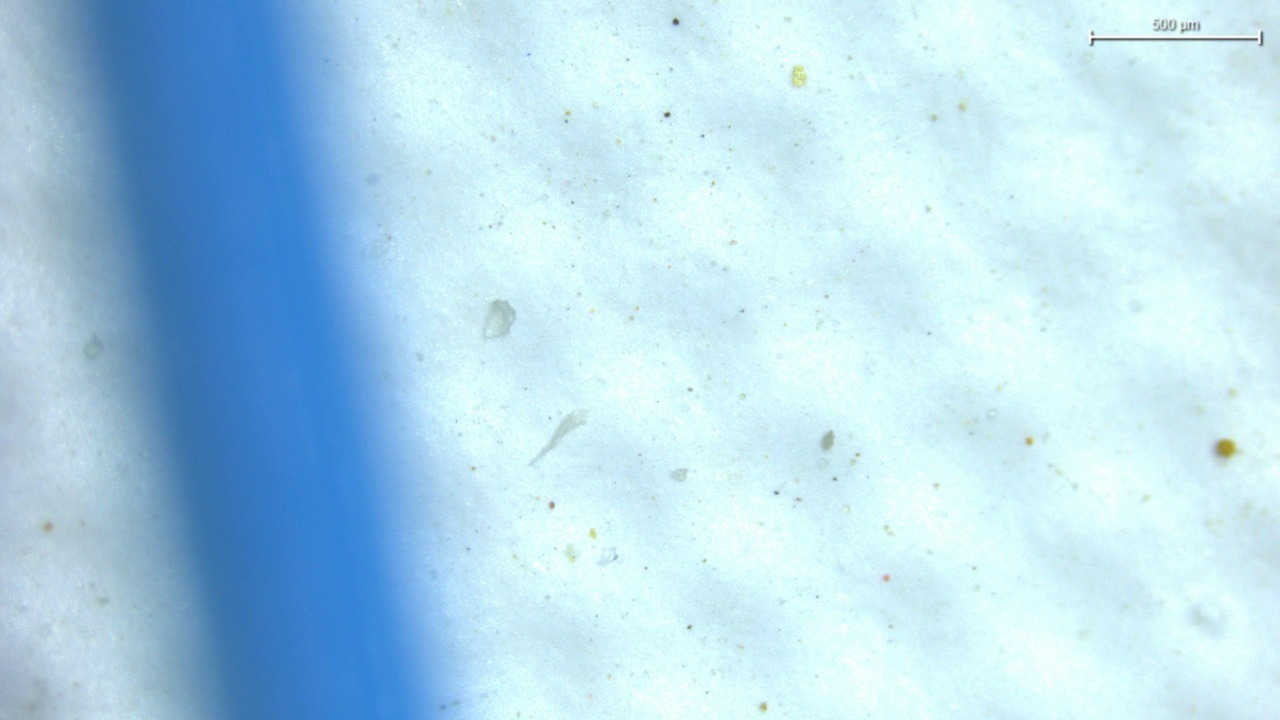microplastic_fragment: (482, 299, 516, 340)
